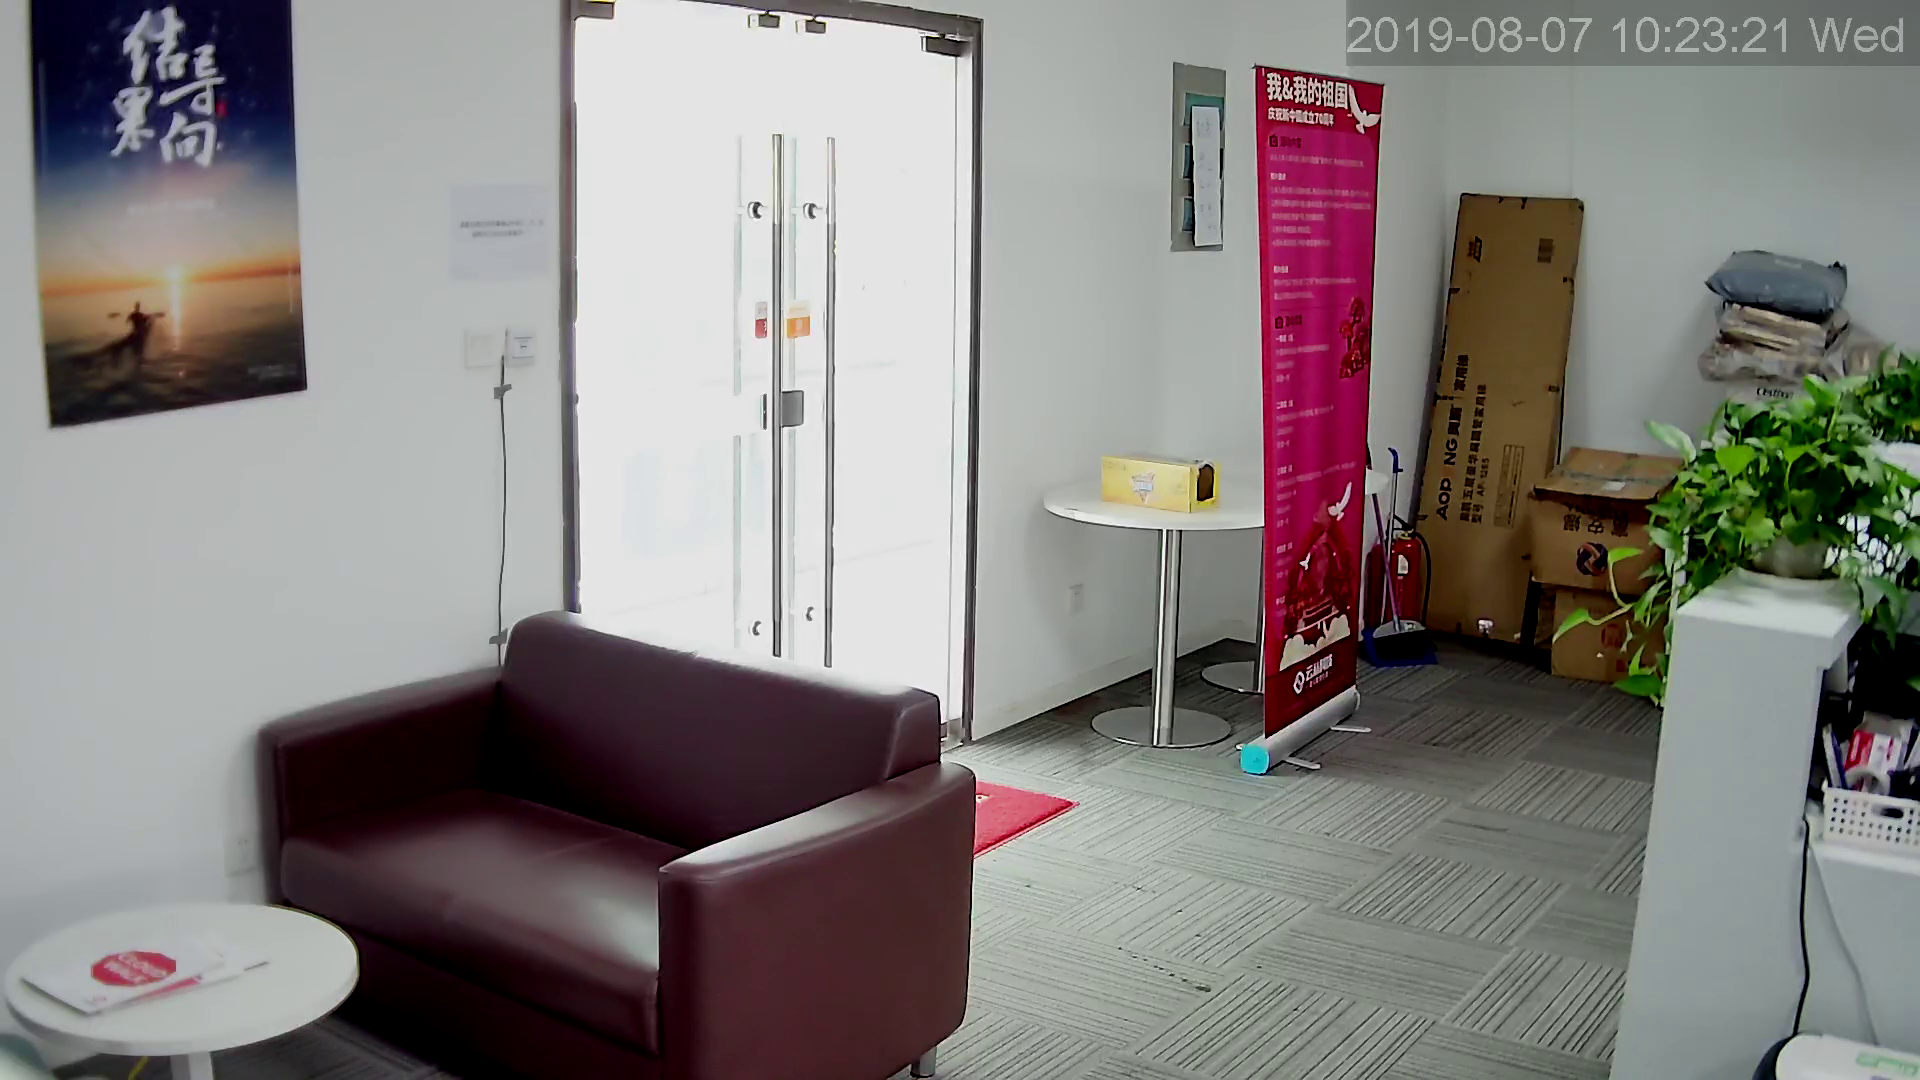bill: (29, 1, 313, 427), (1255, 66, 1379, 777)
